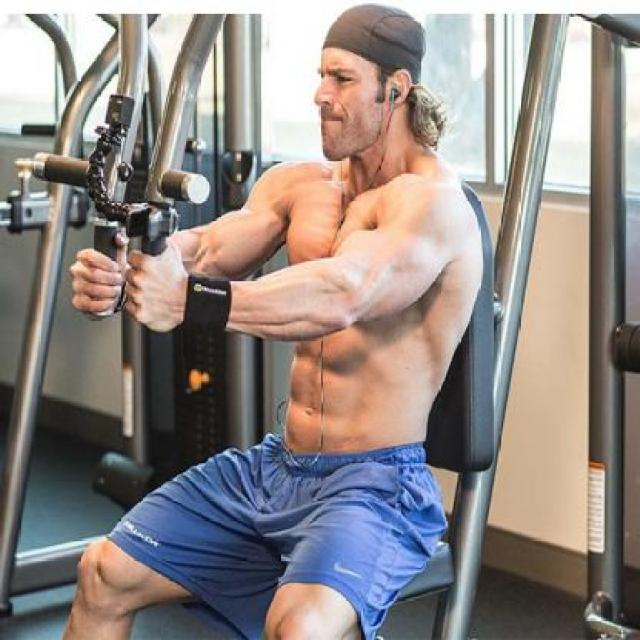chest fly machine: (23, 6, 512, 640)
